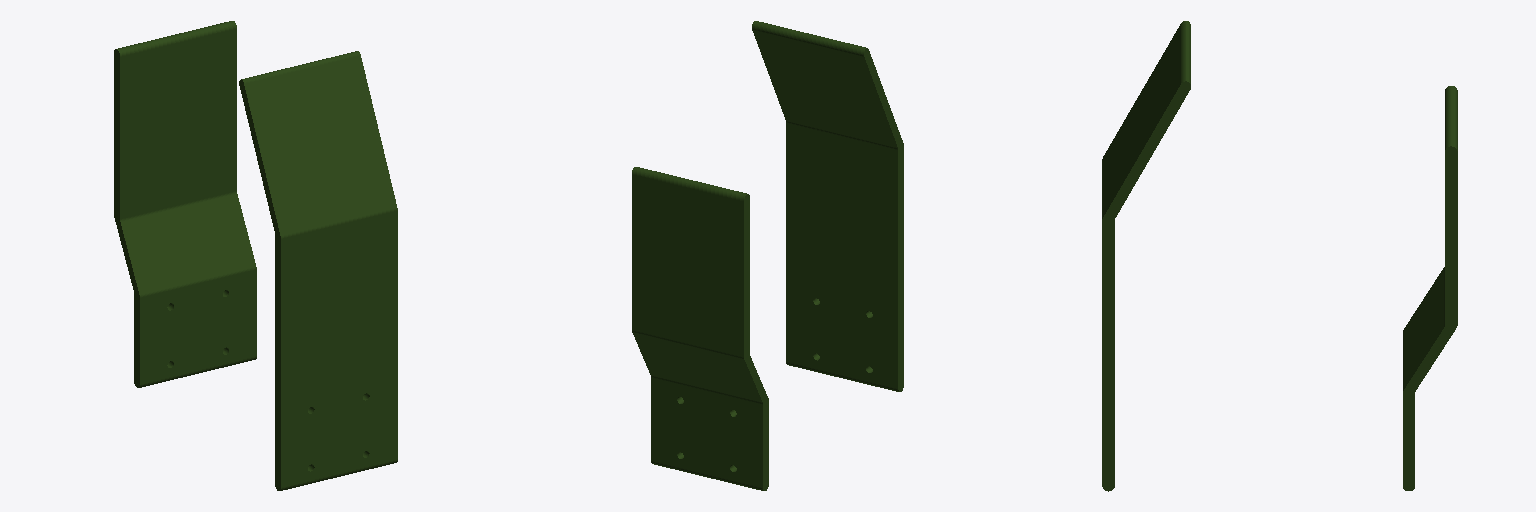
URDF robot description (jupiterobot_arm):
<?xml version="1.0" ?>
<!-- =================================================================================== -->
<!-- |    This document was autogenerated by xacro from jupiterobot_arm.urdf.xacro     | -->
<!-- |    EDITING THIS FILE BY HAND IS NOT RECOMMENDED                                 | -->
<!-- =================================================================================== -->
<!-- Describe URDF for Turtlebot Arm 2.0 F5 to F5G-->
<robot name="jupiterobot_arm" xmlns:xacro="http://ros.org/wiki/xacro">
  <material name="White">
    <color rgba="0.87 0.90 0.87 1.0"/>
  </material>
  <material name="Black">
    <color rgba="0.08 0.08 0.08 1.0"/>
  </material>
  <material name="Gray">
    <color rgba="0.2 0.2 0.21 1.0"/>
  </material>
  <material name="Green">
    <color rgba="0.22 0.32 0.14 1.0"/>
  </material>
  <!-- As we don't have here a turtlebot base, add a base_link link as its location reference -->
  <link name="base_link"/>
  <link name="arm_base_link"/>
  <joint name="arm_base_joint" type="fixed">
    <origin xyz="0.1 0.011 0.435"/>
    <parent link="base_link"/>
    <child link="arm_base_link"/>
  </joint>
  <joint name="arm_1_servo_joint" type="fixed">
    <origin rpy="1.570795 0 1.570795" xyz="0 0 0"/>
    <parent link="arm_base_link"/>
    <child link="arm_1_servo_link"/>
  </joint>
  <link name="arm_1_servo_link">
    <inertial>
      <mass value="0.055"/>
      <origin xyz="0 0 0"/>
      <inertia ixx="0.000017012" ixy="0.0" ixz="0.0" iyy="0.000013258" iyz="0.0" izz="0.000009483"/>
    </inertial>
    <visual>
      <origin rpy="0 0 0" xyz=" 0 0 0 "/>
      <geometry>
        <mesh filename="package://jupiterobot_arm_description/meshes/ax12_box.stl" scale="0.001 0.001 0.001"/>
      </geometry>
      <material name="Black"/>
    </visual>
    <collision>
      <origin rpy="0 0 0" xyz="0.0 0.0 -0.01241"/>
      <geometry>
        <box size="0.025 0.038 0.04762"/>
      </geometry>
    </collision>
  </link>
  <gazebo reference="arm_1_servo_link">
    <material>Gazebo/Black</material>
    <selfCollide>true</selfCollide>
    <gravity>true</gravity>
  </gazebo>
  <joint name="arm_1_F3_joint" type="revolute">
    <origin rpy="-1.570795 1.570795 3.14159" xyz="0 0.019 0"/>
    <axis xyz="0 0 -1"/>
    <limit effort="30" lower="-2.617" upper="2.617" velocity="1.571"/>
    <dynamics friction="0.13"/>
    <parent link="arm_1_servo_link"/>
    <child link="arm_1_F3_link"/>
  </joint>
  <link name="arm_1_F3_link">
    <inertial>
      <mass value="0.008"/>
      <origin xyz="0 0 0"/>
      <inertia ixx="4.70666666667e-07" ixy="0" ixz="0" iyy="1.37933333333e-06" iyz="0" izz="1.01666666667e-06"/>
    </inertial>
    <visual>
      <origin rpy="0 0 0" xyz=" 0 0 0 "/>
      <geometry>
        <mesh filename="package://jupiterobot_arm_description/meshes/F3.stl" scale="0.001 0.001 0.001"/>
      </geometry>
      <material name="White"/>
    </visual>
    <collision>
      <origin rpy="0 0 0" xyz="0.0 0.0 -0.0045"/>
      <geometry>
        <box size="0.025 0.038 0.009"/>
      </geometry>
    </collision>
  </link>
  <gazebo reference="arm_1_F3_link">
    <material>Gazebo/White</material>
    <selfCollide>true</selfCollide>
    <gravity>true</gravity>
  </gazebo>
  <joint name="arm_2_servo_joint" type="fixed">
    <origin rpy="0 3.14159 3.14159" xyz="0 0 -0.0375"/>
    <parent link="arm_1_F3_link"/>
    <child link="arm_2_servo_link"/>
  </joint>
  <link name="arm_2_servo_link">
    <inertial>
      <mass value="0.055"/>
      <origin xyz="0 0 0"/>
      <inertia ixx="0.000017012" ixy="0.0" ixz="0.0" iyy="0.000013258" iyz="0.0" izz="0.000009483"/>
    </inertial>
    <visual>
      <origin rpy="0 0 0" xyz=" 0 0 0 "/>
      <geometry>
        <mesh filename="package://jupiterobot_arm_description/meshes/ax12_box.stl" scale="0.001 0.001 0.001"/>
      </geometry>
      <material name="Black"/>
    </visual>
    <collision>
      <origin rpy="0 0 0" xyz="0.0 0.0 -0.01241"/>
      <geometry>
        <box size="0.025 0.038 0.04762"/>
      </geometry>
    </collision>
  </link>
  <gazebo reference="arm_2_servo_link">
    <material>Gazebo/Black</material>
    <selfCollide>true</selfCollide>
    <gravity>true</gravity>
  </gazebo>
  <joint name="arm_2_F4_joint" type="revolute">
    <origin rpy="0 0 0" xyz="0 0 0"/>
    <axis xyz="0 1 0"/>
    <limit effort="30" lower="-2.617" upper="2.617" velocity="1.571"/>
    <dynamics friction="0.13"/>
    <parent link="arm_2_servo_link"/>
    <child link="arm_2_F4_link"/>
  </joint>
  <link name="arm_2_F4_link">
    <inertial>
      <mass value="0.016"/>
      <origin xyz="0 0 0"/>
      <inertia ixx="6.67866666667e-06" ixy="0" ixz="0" iyy="4.18166666667e-06" iyz="0" izz="8.76966666667e-06"/>
    </inertial>
    <visual>
      <origin rpy="0 0 0" xyz=" 0 0 0 "/>
      <geometry>
        <mesh filename="package://jupiterobot_arm_description/meshes/F4.stl" scale="0.001 0.001 0.001"/>
      </geometry>
      <material name="White"/>
    </visual>
    <collision>
      <origin rpy="0 0 0" xyz="0.0 0.0 0.0215"/>
      <geometry>
        <box size="0.028 0.0485 0.065"/>
      </geometry>
    </collision>
  </link>
  <gazebo reference="arm_2_F4_link">
    <material>Gazebo/White</material>
    <selfCollide>true</selfCollide>
    <gravity>true</gravity>
  </gazebo>
  <joint name="arm_2_F3_joint" type="fixed">
    <origin rpy="0 3.14159 0" xyz="0 0 0.0525"/>
    <parent link="arm_2_F4_link"/>
    <child link="arm_2_F3_link"/>
  </joint>
  <link name="arm_2_F3_link">
    <inertial>
      <mass value="0.005"/>
      <origin xyz="0 0 0"/>
      <inertia ixx="2.94166666667e-07" ixy="0" ixz="0" iyy="8.62083333333e-07" iyz="0" izz="6.35416666667e-07"/>
    </inertial>
    <visual>
      <origin rpy="0 0 0" xyz=" 0 0 0 "/>
      <geometry>
        <mesh filename="package://jupiterobot_arm_description/meshes/F3.stl" scale="0.001 0.001 0.001"/>
      </geometry>
      <material name="White"/>
    </visual>
    <collision>
      <origin rpy="0 0 0" xyz="0.0 0.0 -0.0045"/>
      <geometry>
        <box size="0.025 0.038 0.009"/>
      </geometry>
    </collision>
  </link>
  <gazebo reference="arm_2_F3_link">
    <material>Gazebo/White</material>
    <selfCollide>true</selfCollide>
    <gravity>true</gravity>
  </gazebo>
  <joint name="arm_3_servo_joint" type="fixed">
    <origin rpy="0 3.14159 0" xyz="0 0 -0.0375"/>
    <parent link="arm_2_F3_link"/>
    <child link="arm_3_servo_link"/>
  </joint>
  <link name="arm_3_servo_link">
    <inertial>
      <mass value="0.055"/>
      <origin xyz="0 0 0"/>
      <inertia ixx="0.000017012" ixy="0.0" ixz="0.0" iyy="0.000013258" iyz="0.0" izz="0.000009483"/>
    </inertial>
    <visual>
      <origin rpy="0 0 0" xyz=" 0 0 0 "/>
      <geometry>
        <mesh filename="package://jupiterobot_arm_description/meshes/ax12_box.stl" scale="0.001 0.001 0.001"/>
      </geometry>
      <material name="Black"/>
    </visual>
    <collision>
      <origin rpy="0 0 0" xyz="0.0 0.0 -0.01241"/>
      <geometry>
        <box size="0.025 0.038 0.04762"/>
      </geometry>
    </collision>
  </link>
  <gazebo reference="arm_3_servo_link">
    <material>Gazebo/Black</material>
    <selfCollide>true</selfCollide>
    <gravity>true</gravity>
  </gazebo>
  <joint name="arm_3_F4_joint" type="revolute">
    <origin rpy="0 0 0" xyz="0 0 0"/>
    <axis xyz="0 1 0"/>
    <limit effort="30" lower="-2.617" upper="2.617" velocity="1.571"/>
    <dynamics friction="0.13"/>
    <parent link="arm_3_servo_link"/>
    <child link="arm_3_F4_link"/>
  </joint>
  <link name="arm_3_F4_link">
    <inertial>
      <mass value="0.016"/>
      <origin xyz="0 0 0"/>
      <inertia ixx="6.67866666667e-06" ixy="0" ixz="0" iyy="4.18166666667e-06" iyz="0" izz="8.76966666667e-06"/>
    </inertial>
    <visual>
      <origin rpy="0 0 0" xyz=" 0 0 0 "/>
      <geometry>
        <mesh filename="package://jupiterobot_arm_description/meshes/F4.stl" scale="0.001 0.001 0.001"/>
      </geometry>
      <material name="White"/>
    </visual>
    <collision>
      <origin rpy="0 0 0" xyz="0.0 0.0 0.0215"/>
      <geometry>
        <box size="0.028 0.0485 0.065"/>
      </geometry>
    </collision>
  </link>
  <gazebo reference="arm_3_F4_link">
    <material>Gazebo/White</material>
    <selfCollide>true</selfCollide>
    <gravity>true</gravity>
  </gazebo>
  <joint name="arm_3_F3_joint" type="fixed">
    <origin rpy="0 3.14159 3.14159" xyz="0 0 0.0525"/>
    <parent link="arm_3_F4_link"/>
    <child link="arm_3_F3_link"/>
  </joint>
  <link name="arm_3_F3_link">
    <inertial>
      <mass value="0.005"/>
      <origin xyz="0 0 0"/>
      <inertia ixx="2.94166666667e-07" ixy="0" ixz="0" iyy="8.62083333333e-07" iyz="0" izz="6.35416666667e-07"/>
    </inertial>
    <visual>
      <origin rpy="0 0 0" xyz=" 0 0 0 "/>
      <geometry>
        <mesh filename="package://jupiterobot_arm_description/meshes/F3.stl" scale="0.001 0.001 0.001"/>
      </geometry>
      <material name="White"/>
    </visual>
    <collision>
      <origin rpy="0 0 0" xyz="0.0 0.0 -0.0045"/>
      <geometry>
        <box size="0.025 0.038 0.009"/>
      </geometry>
    </collision>
  </link>
  <gazebo reference="arm_3_F3_link">
    <material>Gazebo/White</material>
    <selfCollide>true</selfCollide>
    <gravity>true</gravity>
  </gazebo>
  <joint name="arm_4_servo_joint" type="fixed">
    <origin rpy="0 3.14159 0" xyz="0 0 -0.0375"/>
    <parent link="arm_3_F3_link"/>
    <child link="arm_4_servo_link"/>
  </joint>
  <link name="arm_4_servo_link">
    <inertial>
      <mass value="0.055"/>
      <origin xyz="0 0 0"/>
      <inertia ixx="0.000017012" ixy="0.0" ixz="0.0" iyy="0.000013258" iyz="0.0" izz="0.000009483"/>
    </inertial>
    <visual>
      <origin rpy="0 0 0" xyz=" 0 0 0 "/>
      <geometry>
        <mesh filename="package://jupiterobot_arm_description/meshes/ax12_box.stl" scale="0.001 0.001 0.001"/>
      </geometry>
      <material name="Black"/>
    </visual>
    <collision>
      <origin rpy="0 0 0" xyz="0.0 0.0 -0.01241"/>
      <geometry>
        <box size="0.025 0.038 0.04762"/>
      </geometry>
    </collision>
  </link>
  <gazebo reference="arm_4_servo_link">
    <material>Gazebo/Black</material>
    <selfCollide>true</selfCollide>
    <gravity>true</gravity>
  </gazebo>
  <joint name="arm_4_F3_joint" type="revolute">
    <origin rpy="-1.570795 -1.570795 3.14159" xyz="0 0.019 0"/>
    <axis xyz="0 0 -1"/>
    <limit effort="30" lower="-2.617" upper="2.617" velocity="1.571"/>
    <dynamics friction="0.13"/>
    <parent link="arm_4_servo_link"/>
    <child link="arm_4_F3_link"/>
  </joint>
  <link name="arm_4_F3_link">
    <inertial>
      <mass value="0.008"/>
      <origin xyz="0 0 0"/>
      <inertia ixx="4.70666666667e-07" ixy="0" ixz="0" iyy="1.37933333333e-06" iyz="0" izz="1.01666666667e-06"/>
    </inertial>
    <visual>
      <origin rpy="0 0 0" xyz=" 0 0 0 "/>
      <geometry>
        <mesh filename="package://jupiterobot_arm_description/meshes/F3.stl" scale="0.001 0.001 0.001"/>
      </geometry>
      <material name="White"/>
    </visual>
    <collision>
      <origin rpy="0 0 0" xyz="0.0 0.0 -0.0045"/>
      <geometry>
        <box size="0.025 0.038 0.009"/>
      </geometry>
    </collision>
  </link>
  <gazebo reference="arm_4_F3_link">
    <material>Gazebo/White</material>
    <selfCollide>true</selfCollide>
    <gravity>true</gravity>
  </gazebo>
  <joint name="arm_5_servo_joint" type="fixed">
    <origin rpy="0 3.14159 3.14159" xyz="0 0 -0.0375"/>
    <parent link="arm_4_F3_link"/>
    <child link="arm_5_servo_link"/>
  </joint>
  <link name="arm_5_servo_link">
    <inertial>
      <mass value="0.055"/>
      <origin xyz="0 0 0"/>
      <inertia ixx="0.000017012" ixy="0.0" ixz="0.0" iyy="0.000013258" iyz="0.0" izz="0.000009483"/>
    </inertial>
    <visual>
      <origin rpy="0 0 0" xyz=" 0 0 0 "/>
      <geometry>
        <mesh filename="package://jupiterobot_arm_description/meshes/ax12_box.stl" scale="0.001 0.001 0.001"/>
      </geometry>
      <material name="Black"/>
    </visual>
    <collision>
      <origin rpy="0 0 0" xyz="0.0 0.0 -0.01241"/>
      <geometry>
        <box size="0.025 0.038 0.04762"/>
      </geometry>
    </collision>
  </link>
  <gazebo reference="arm_5_servo_link">
    <material>Gazebo/Black</material>
    <selfCollide>true</selfCollide>
    <gravity>true</gravity>
  </gazebo>
  <joint name="arm_5_F3_joint" type="revolute">
    <origin rpy="-1.570795 -1.570795 3.14159" xyz="0 0.019 0"/>
    <axis xyz="0 0 -1"/>
    <limit effort="30" lower="-2.617" upper="2.617" velocity="1.571"/>
    <dynamics friction="0.13"/>
    <parent link="arm_5_servo_link"/>
    <child link="arm_5_F3_link"/>
  </joint>
  <link name="arm_5_F3_link">
    <inertial>
      <mass value="0.008"/>
      <origin xyz="0 0 0"/>
      <inertia ixx="4.70666666667e-07" ixy="0" ixz="0" iyy="1.37933333333e-06" iyz="0" izz="1.01666666667e-06"/>
    </inertial>
    <visual>
      <origin rpy="0 0 0" xyz=" 0 0 0 "/>
      <geometry>
        <mesh filename="package://jupiterobot_arm_description/meshes/F3.stl" scale="0.001 0.001 0.001"/>
      </geometry>
      <material name="White"/>
    </visual>
    <collision>
      <origin rpy="0 0 0" xyz="0.0 0.0 -0.0045"/>
      <geometry>
        <box size="0.025 0.038 0.009"/>
      </geometry>
    </collision>
  </link>
  <gazebo reference="arm_5_F3_link">
    <material>Gazebo/White</material>
    <selfCollide>true</selfCollide>
    <gravity>true</gravity>
  </gazebo>
  <joint name="arm_6_servo_joint" type="fixed">
    <origin rpy="0 3.14159 3.14159" xyz="0 0 -0.0375"/>
    <parent link="arm_5_F3_link"/>
    <child link="arm_6_servo_link"/>
  </joint>
  <link name="arm_6_servo_link">
    <inertial>
      <mass value="0.055"/>
      <origin xyz="0 0 0"/>
      <inertia ixx="0.000017012" ixy="0.0" ixz="0.0" iyy="0.000013258" iyz="0.0" izz="0.000009483"/>
    </inertial>
    <visual>
      <origin rpy="0 0 0" xyz=" 0 0 0 "/>
      <geometry>
        <mesh filename="package://jupiterobot_arm_description/meshes/ax12_box.stl" scale="0.001 0.001 0.001"/>
      </geometry>
      <material name="Black"/>
    </visual>
    <collision>
      <origin rpy="0 0 0" xyz="0.0 0.0 -0.01241"/>
      <geometry>
        <box size="0.025 0.038 0.04762"/>
      </geometry>
    </collision>
  </link>
  <gazebo reference="arm_6_servo_link">
    <material>Gazebo/Black</material>
    <selfCollide>true</selfCollide>
    <gravity>true</gravity>
  </gazebo>
  <joint name="arm_6_F3_joint" type="revolute">
    <origin rpy="-1.570795 3.14159 3.14159" xyz="0 0.019 0"/>
    <axis xyz="0 0 -1"/>
    <limit effort="30" lower="-1.745" upper="1.745" velocity="1.571"/>
    <dynamics friction="0.13"/>
    <parent link="arm_6_servo_link"/>
    <child link="arm_6_F3_link"/>
  </joint>
  <link name="arm_6_F3_link">
    <inertial>
      <mass value="0.008"/>
      <origin xyz="0 0 0"/>
      <inertia ixx="4.70666666667e-07" ixy="0" ixz="0" iyy="1.37933333333e-06" iyz="0" izz="1.01666666667e-06"/>
    </inertial>
    <visual>
      <origin rpy="0 0 0" xyz=" 0 0 0 "/>
      <geometry>
        <mesh filename="package://jupiterobot_arm_description/meshes/F3.stl" scale="0.001 0.001 0.001"/>
      </geometry>
      <material name="White"/>
    </visual>
    <collision>
      <origin rpy="0 0 0" xyz="0.0 0.0 -0.0045"/>
      <geometry>
        <box size="0.025 0.038 0.009"/>
      </geometry>
    </collision>
  </link>
  <gazebo reference="arm_6_F3_link">
    <material>Gazebo/White</material>
    <selfCollide>true</selfCollide>
    <gravity>true</gravity>
  </gazebo>
  <joint name="gripper_servo_joint" type="fixed">
    <origin rpy="3.14159 1.570795 0" xyz="-0.016 0 -0.019"/>
    <parent link="arm_6_F3_link"/>
    <child link="gripper_servo_link"/>
  </joint>
  <link name="gripper_servo_link">
    <inertial>
      <mass value="0.055"/>
      <origin xyz="0 0 0"/>
      <inertia ixx="0.000017012" ixy="0.0" ixz="0.0" iyy="0.000013258" iyz="0.0" izz="0.000009483"/>
    </inertial>
    <visual>
      <origin rpy="0 0 0" xyz=" 0 0 0 "/>
      <geometry>
        <mesh filename="package://jupiterobot_arm_description/meshes/ax12_box.stl" scale="0.001 0.001 0.001"/>
      </geometry>
      <material name="Black"/>
    </visual>
    <collision>
      <origin rpy="0 0 0" xyz="0.0 0.0 -0.01241"/>
      <geometry>
        <box size="0.025 0.038 0.04762"/>
      </geometry>
    </collision>
  </link>
  <gazebo reference="gripper_servo_link">
    <material>Gazebo/Black</material>
    <selfCollide>true</selfCollide>
    <gravity>true</gravity>
  </gazebo>
  <!-- finger 1 -->
  <joint name="gripper_joint" type="revolute">
    <origin rpy="0 0 0" xyz="0 0 0"/>
    <axis xyz="0 1 0"/>
    <limit effort="30" lower="-0.40" upper="0.7" velocity="0.785"/>
    <parent link="gripper_servo_link"/>
    <child link="gripper_active_link"/>
  </joint>
  <link name="gripper_active_link">
    <inertial>
      <mass value="0.010"/>
      <origin xyz="0 0 0"/>
      <inertia ixx="0.000001" ixy="0.0" ixz="0.0" iyy="0.000001" iyz="0.0" izz="0.000001"/>
    </inertial>
    <visual>
      <origin rpy="0 0 0" xyz=" 0 0 0 "/>
      <geometry>
        <mesh filename="package://turtlebot_arm_description/meshes/F2.stl" scale="0.001 0.001 0.001"/>
      </geometry>
      <material name="White"/>
    </visual>
    <collision>
      <origin rpy="0 0 0" xyz="0.0 0.0 0.00775"/>
      <geometry>
        <box size="0.025 0.0485 0.0375"/>
      </geometry>
    </collision>
  </link>
  <joint name="gripper_active_finger_joint" type="fixed">
    <origin rpy="3.14159 0 0" xyz="-0.013 0.017 0.0295"/>
    <parent link="gripper_active_link"/>
    <child link="gripper_active_finger_link"/>
  </joint>
  <link name="gripper_active_finger_link">
    <inertial>
      <mass value="0.009"/>
      <origin xyz="0 0 0"/>
      <inertia ixx="9.21675e-06" ixy="0" ixz="0" iyy="9.615e-06" iyz="0" izz="1.33575e-06"/>
    </inertial>
    <visual>
      <origin rpy="0 0 0" xyz=" 0 0 0 "/>
      <geometry>
        <mesh filename="package://jupiterobot_arm_description/meshes/finger_active.stl" scale="0.001 0.001 0.001"/>
      </geometry>
      <material name="Green"/>
    </visual>
    <collision>
      <origin rpy="0 0 0" xyz="0.054 0.017 0.0125"/>
      <geometry>
        <box size="0.108 0.034 0.025"/>
      </geometry>
    </collision>
  </link>
  <gazebo reference="gripper_active_finger_link">
    <material>Gazebo/Green</material>
    <selfCollide>true</selfCollide>
    <gravity>true</gravity>
  </gazebo>
  <joint name="gripper_static_joint" type="fixed">
    <origin rpy="0 3.14159 0" xyz="0 0 -0.0415"/>
    <parent link="gripper_servo_link"/>
    <child link="gripper_static_link"/>
  </joint>
  <link name="gripper_static_link">
    <inertial>
      <mass value="0.005"/>
      <origin xyz="0 0 0"/>
      <inertia ixx="2.94166666667e-07" ixy="0" ixz="0" iyy="8.62083333333e-07" iyz="0" izz="6.35416666667e-07"/>
    </inertial>
    <visual>
      <origin rpy="0 0 0" xyz=" 0 0 0 "/>
      <geometry>
        <mesh filename="package://jupiterobot_arm_description/meshes/F3.stl" scale="0.001 0.001 0.001"/>
      </geometry>
      <material name="White"/>
    </visual>
    <collision>
      <origin rpy="0 0 0" xyz="0.0 0.0 -0.0045"/>
      <geometry>
        <box size="0.025 0.038 0.009"/>
      </geometry>
    </collision>
  </link>
  <gazebo reference="gripper_static_link">
    <material>Gazebo/White</material>
    <selfCollide>true</selfCollide>
    <gravity>true</gravity>
  </gazebo>
  <joint name="gripper_static_finger_joint" type="fixed">
    <origin rpy="0 0 3.14159" xyz="0.013 0.017 0"/>
    <parent link="gripper_static_link"/>
    <child link="gripper_static_finger_link"/>
  </joint>
  <link name="gripper_static_finger_link">
    <inertial>
      <mass value="0.0075"/>
      <origin xyz="0 0 0"/>
      <inertia ixx="5.17938125e-06" ixy="0" ixz="0" iyy="5.79625625e-06" iyz="0" izz="8.28125e-07"/>
    </inertial>
    <visual>
      <origin rpy="0 0 0" xyz=" 0 0 0 "/>
      <geometry>
        <mesh filename="package://jupiterobot_arm_description/meshes/finger_static.stl" scale="0.001 0.001 0.001"/>
      </geometry>
      <material name="Green"/>
    </visual>
    <collision>
      <origin rpy="0 0 0" xyz="0.0455 0.017 0.0065"/>
      <geometry>
        <box size="0.091 0.034 0.013"/>
      </geometry>
    </collision>
  </link>
  <gazebo reference="gripper_static_finger_link">
    <material>Gazebo/Green</material>
    <selfCollide>true</selfCollide>
    <gravity>true</gravity>
  </gazebo>
  <link name="end_effector_link"/>
  <joint name="end_effector_link_joint" type="fixed">
    <origin rpy="-1.571 -0.0 -0.001" xyz="0.066 0 -0.007"/>
    <parent link="gripper_servo_link"/>
    <child link="end_effector_link"/>
  </joint>
</robot>

--- Render facts (derived) ---
The picture shows the robot from 3 angles, left to right: view 1: azimuth 30°, elevation 25°; view 2: azimuth 150°, elevation 25°; view 3: azimuth 270°, elevation 25°; orthographic projection.
Robot: jupiterobot_arm — 22 links, 21 joints (7 revolute, 14 fixed); root link base_link; default pose: every joint at zero.
Visible links, largest first — view 1: gripper_active_finger_link, gripper_static_finger_link; view 2: gripper_active_finger_link, gripper_static_finger_link; view 3: gripper_active_finger_link, gripper_static_finger_link.
Link boxes in pixels (box(x1,y1,x2,y2)): gripper_active_finger_link: box(239, 51, 397, 490); gripper_static_finger_link: box(114, 21, 256, 387); gripper_active_finger_link: box(752, 21, 903, 391); gripper_static_finger_link: box(632, 167, 768, 490); gripper_active_finger_link: box(1102, 21, 1190, 491); gripper_static_finger_link: box(1403, 86, 1457, 490).
Size in the robot's own frame: 0.034 by 0.084 by 0.107 metres.
Meshes: 6 distinct files referenced, 2 mesh visuals loaded (2 binary STL); not drawn: 17 (reference not matched to a file when rendering).